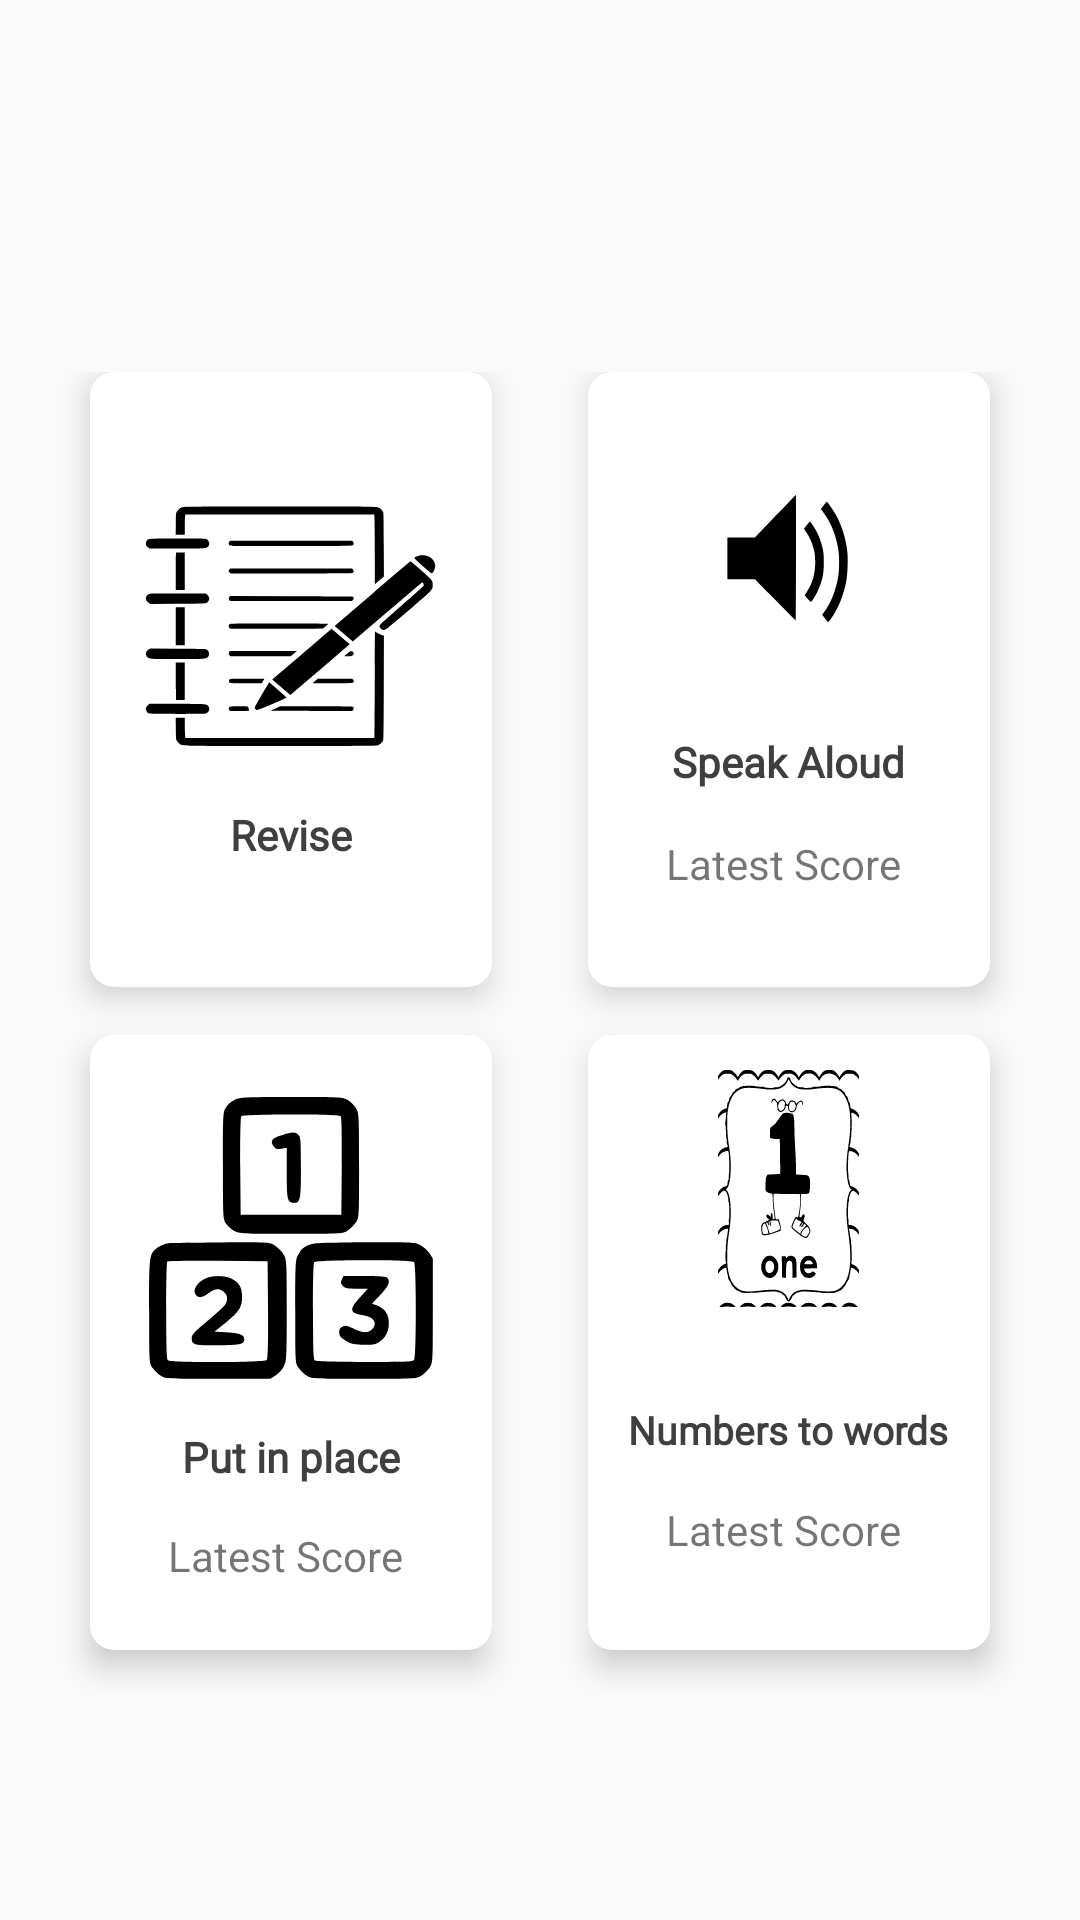

Named icons in this screenshot (1080px x 1920px) and their bounding boxes, (x1, y1, x2, y2):
noinwords: (718, 1070, 859, 1307)
number: (149, 1097, 433, 1379)
speaker: (727, 495, 848, 622)
